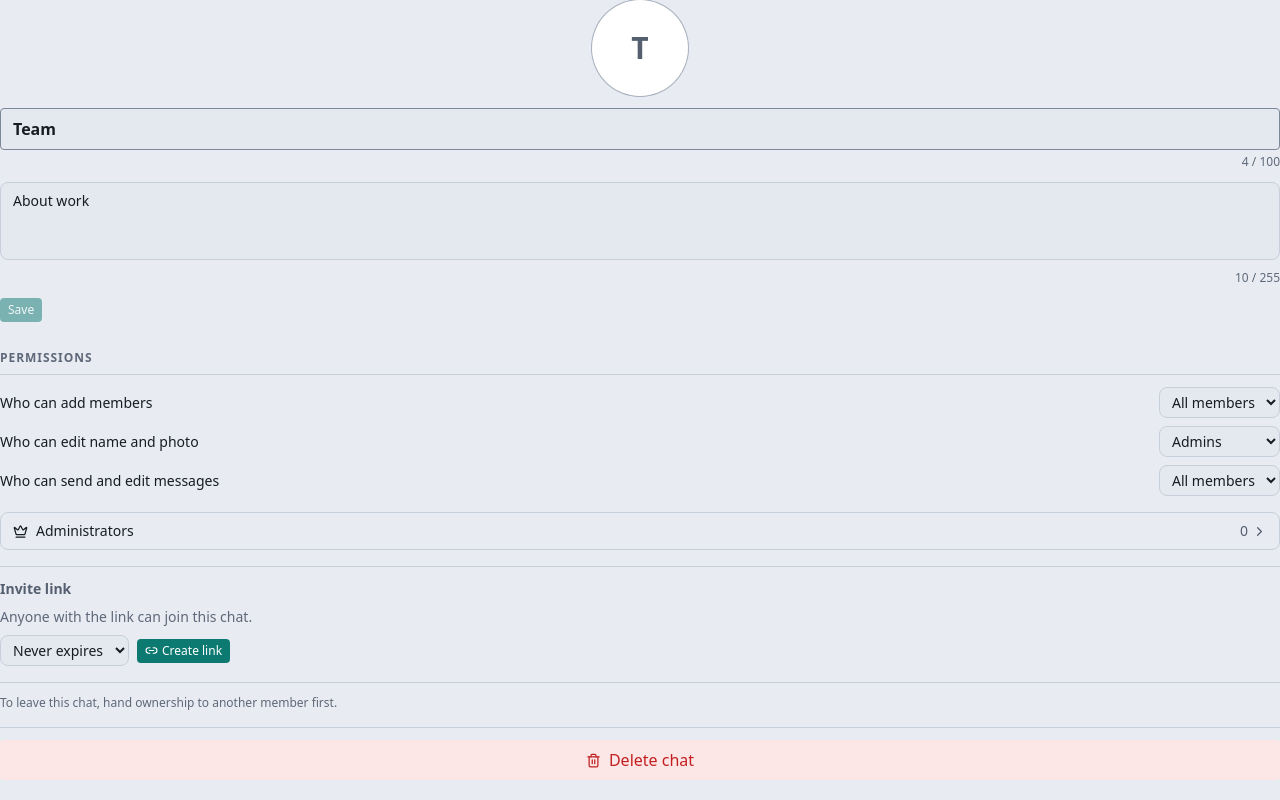
Test: ChatSettingsContent › leaving, clearing and deleting › reports a failed delete and keeps the chat
Click the button "Delete chat" at (640, 760), box x1=0 y1=740 x2=1279 y2=780
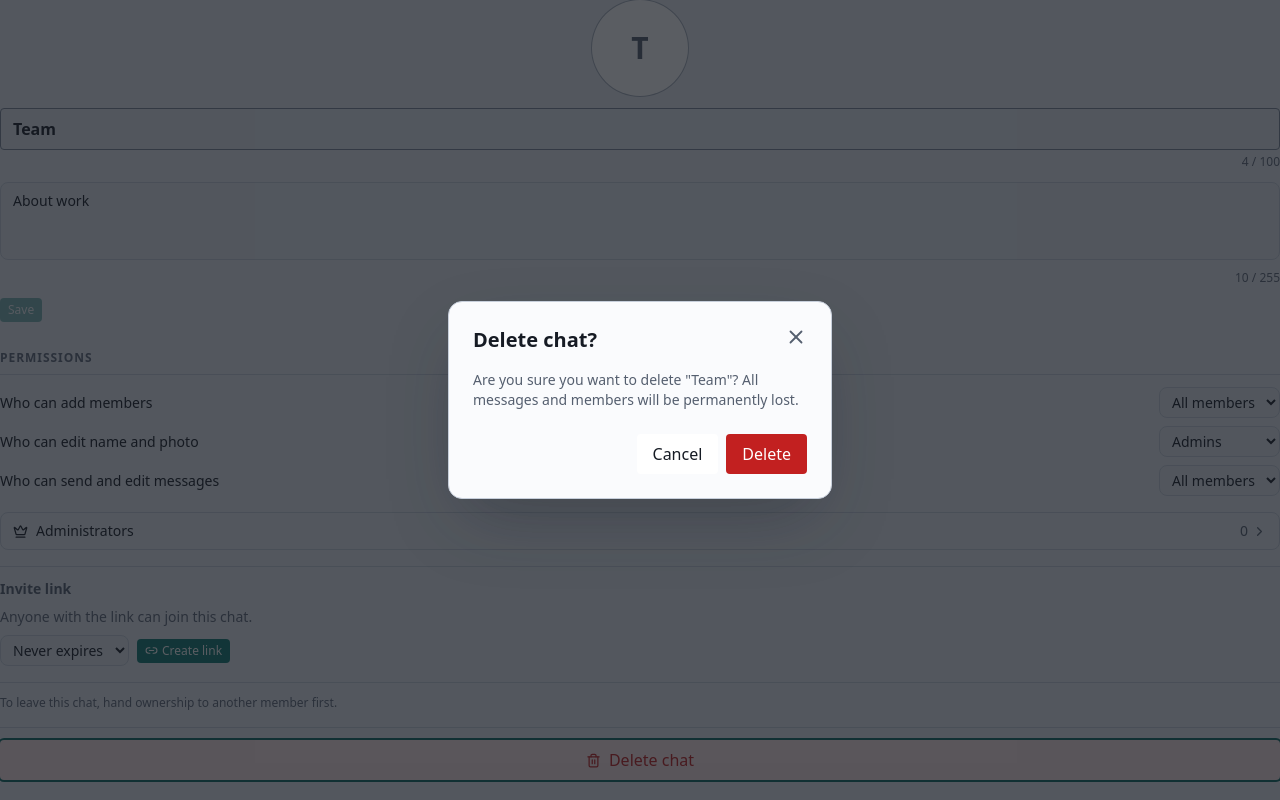
Click the button "Delete" at (767, 454), box x1=726 y1=434 x2=807 y2=474
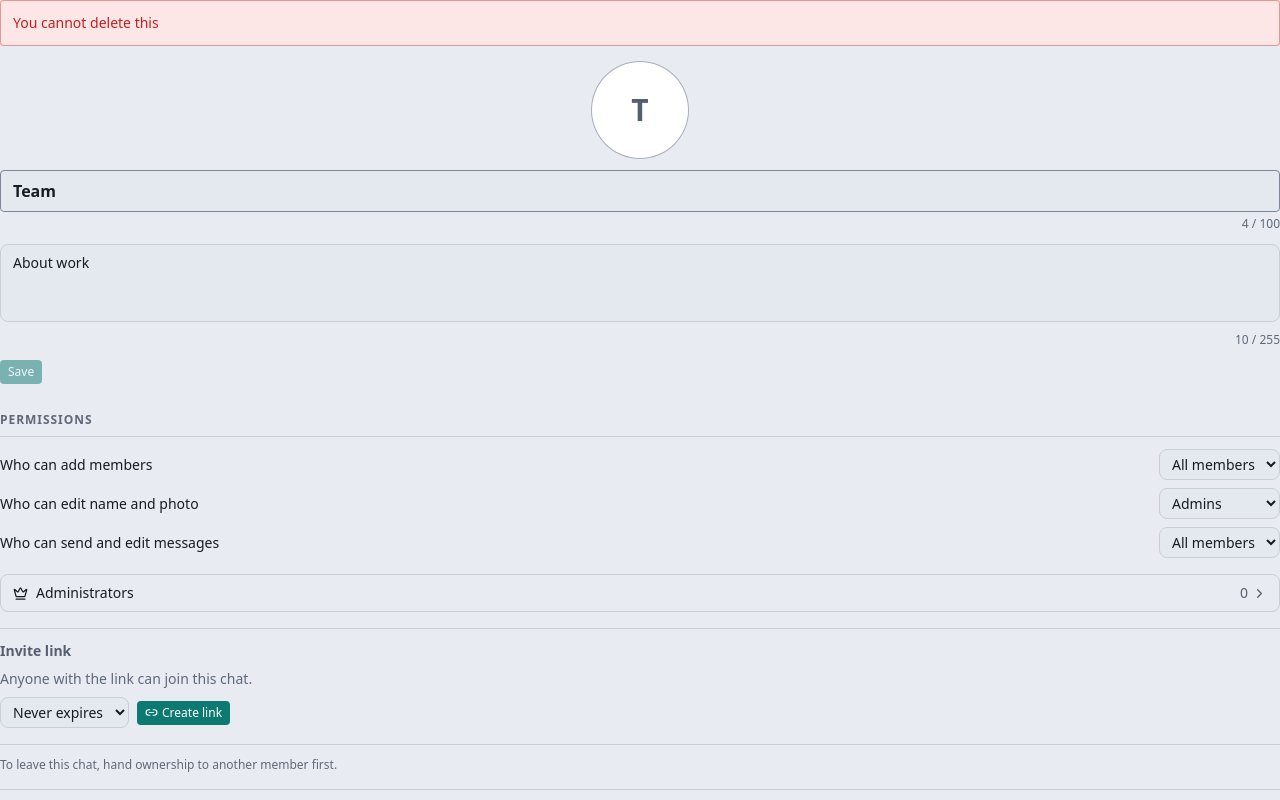
expect the text "You cannot delete this" is shown: met, box x1=0 y1=0 x2=1279 y2=46
